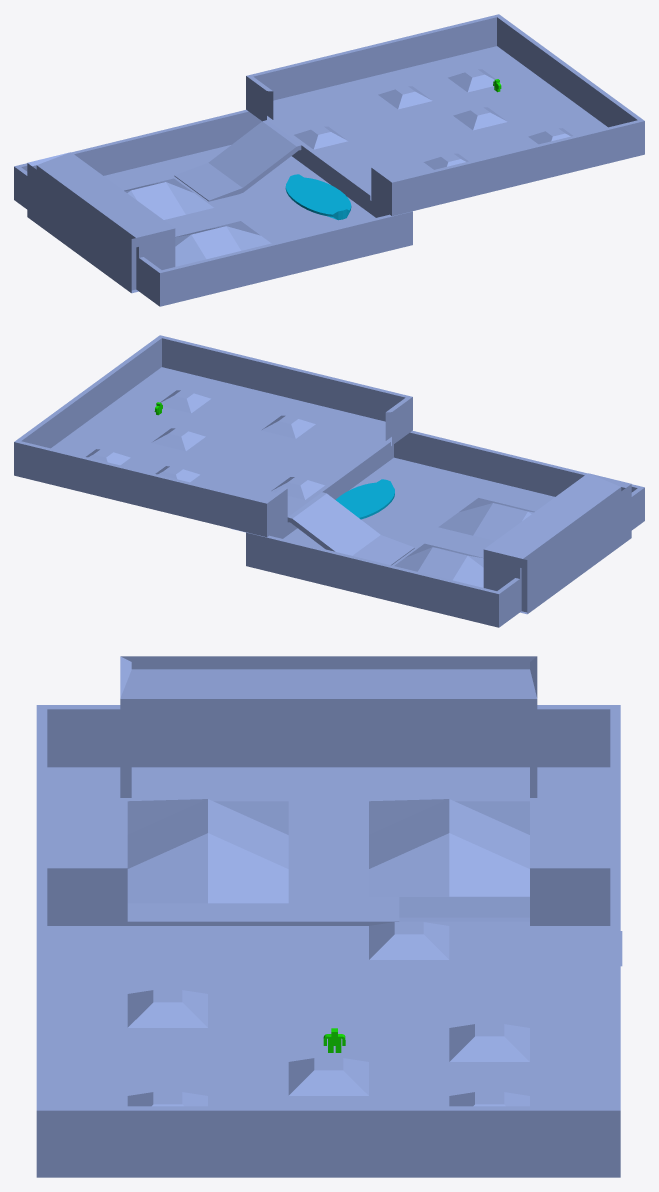
Rendered from play.gltf.
3 renders of one model, top to bottom at view 1: azimuth 30°, elevation 25°; view 2: azimuth 150°, elevation 25°; view 3: azimuth 270°, elevation 25°, orthographic. The views are drawn at different scales.
Parts seen in each view (by area): view 1: ground, spring; view 2: ground, spring; view 3: ground.
Boxes of the visible parts, box(x1,y1,x2,y2) form: ground: box(14, 14, 644, 306); spring: box(285, 174, 351, 220); ground: box(14, 335, 644, 627); spring: box(336, 479, 394, 519); ground: box(36, 656, 622, 1177).
Bounding box in the file's own units: 12.12 × 1.69 × 6.23.
